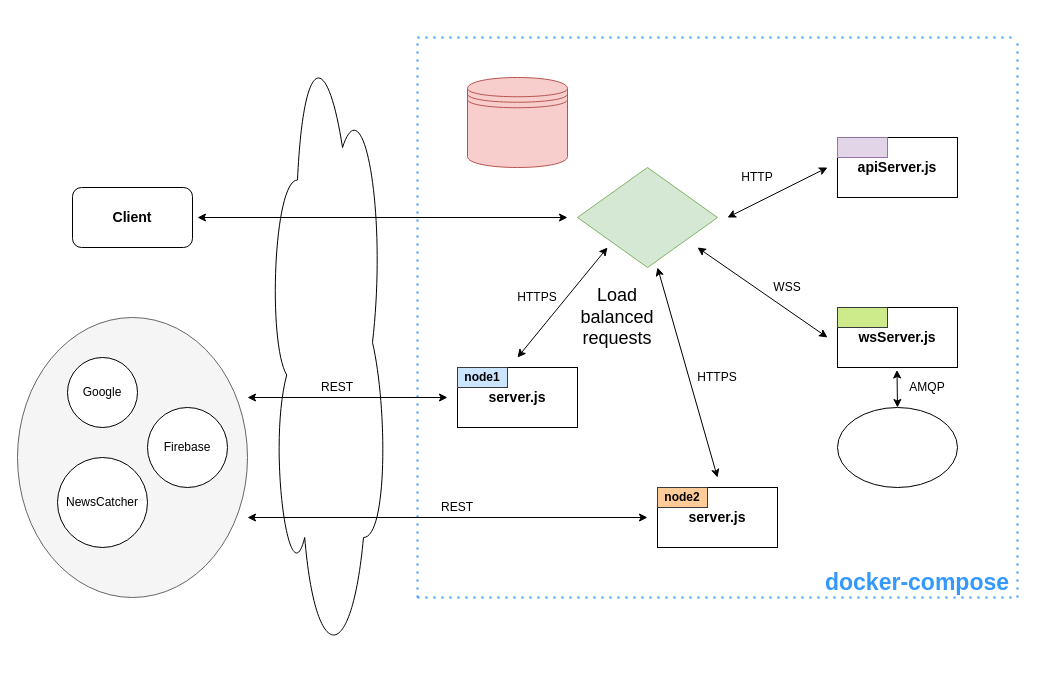
Some shapes in this 1037 by 685 pixel diagram are drawn without their labels. The shapes that lost their labels are listed below. From the top down, each one's centre as x and y in pixels, then its label:
At [517,122]: "CouchDB".
At [862,147]: "node4".
At [647,217]: "NGINX".
At [862,317]: "node3".
At [897,447]: "RabbitMQ".
